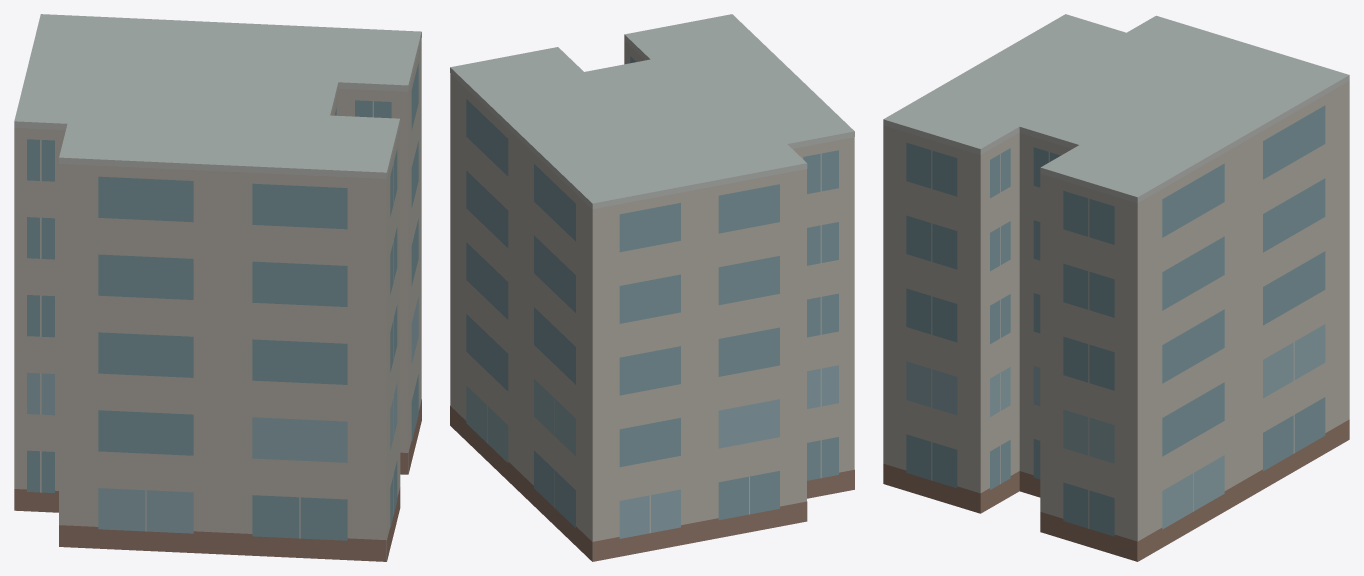
File: survey-upis-32774740.glb
3 views of the same model, side by side, from view 1: azimuth 30°, elevation 25°; view 2: azimuth 150°, elevation 25°; view 3: azimuth 270°, elevation 25° (orthographic). The views are drawn at different scales.
Visible parts, largest first — view 1: survey-upis-32774740.tmp; view 2: survey-upis-32774740.tmp; view 3: survey-upis-32774740.tmp.
Boxes of the visible parts, left/top/right/bottom form: survey-upis-32774740.tmp: left=14, top=14, right=421, bottom=561; survey-upis-32774740.tmp: left=450, top=14, right=854, bottom=561; survey-upis-32774740.tmp: left=883, top=14, right=1349, bottom=561.
Size of the model in its own units: 16.45 by 15.25 by 17.69.
